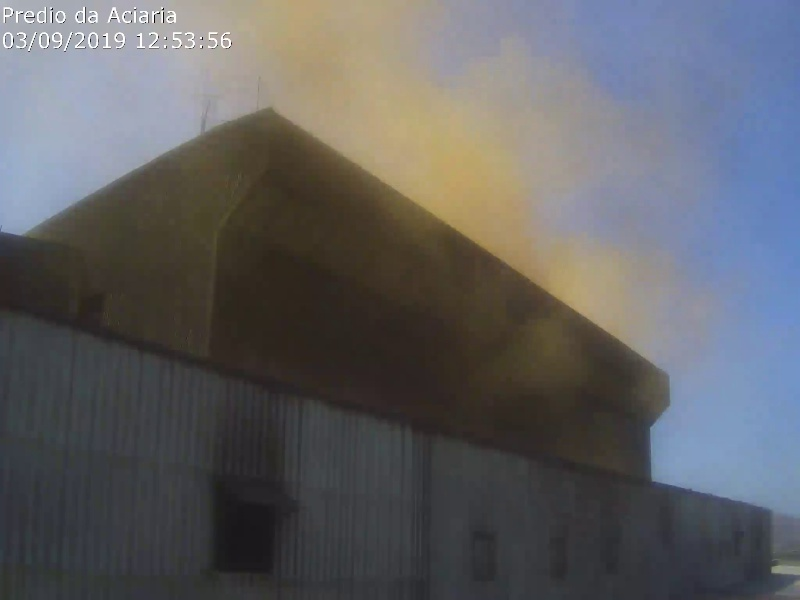Pessimo: (191, 3, 776, 493)
